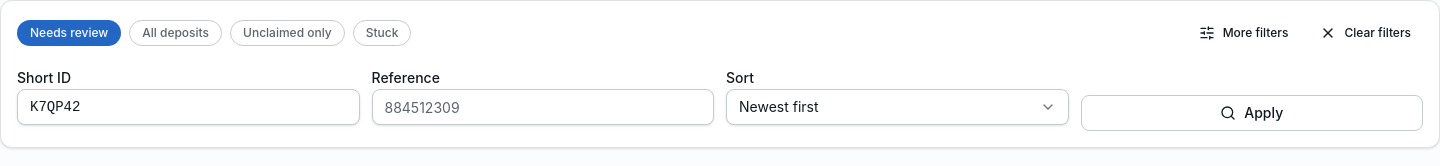
Test: DepositFilters › re-seeds its fields from the URL after a clear
The width and height of the screenshot is (1440, 166).
Check: the field labelled "Short ID" holds "K7QP42", box [17,89,360,125]
Click the button "Clear filters" at (1366, 33), box [1308,17,1423,49]
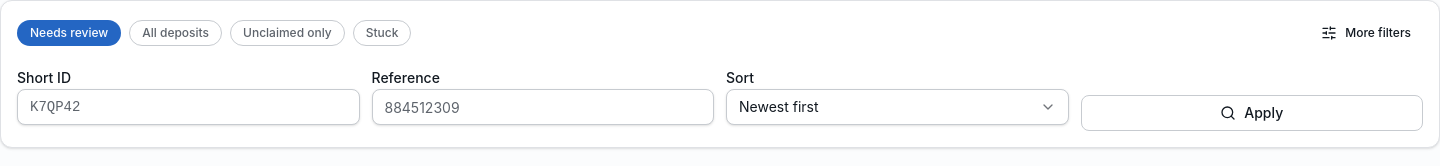
Check: the field labelled "Short ID" is empty, box [17,89,360,125]
